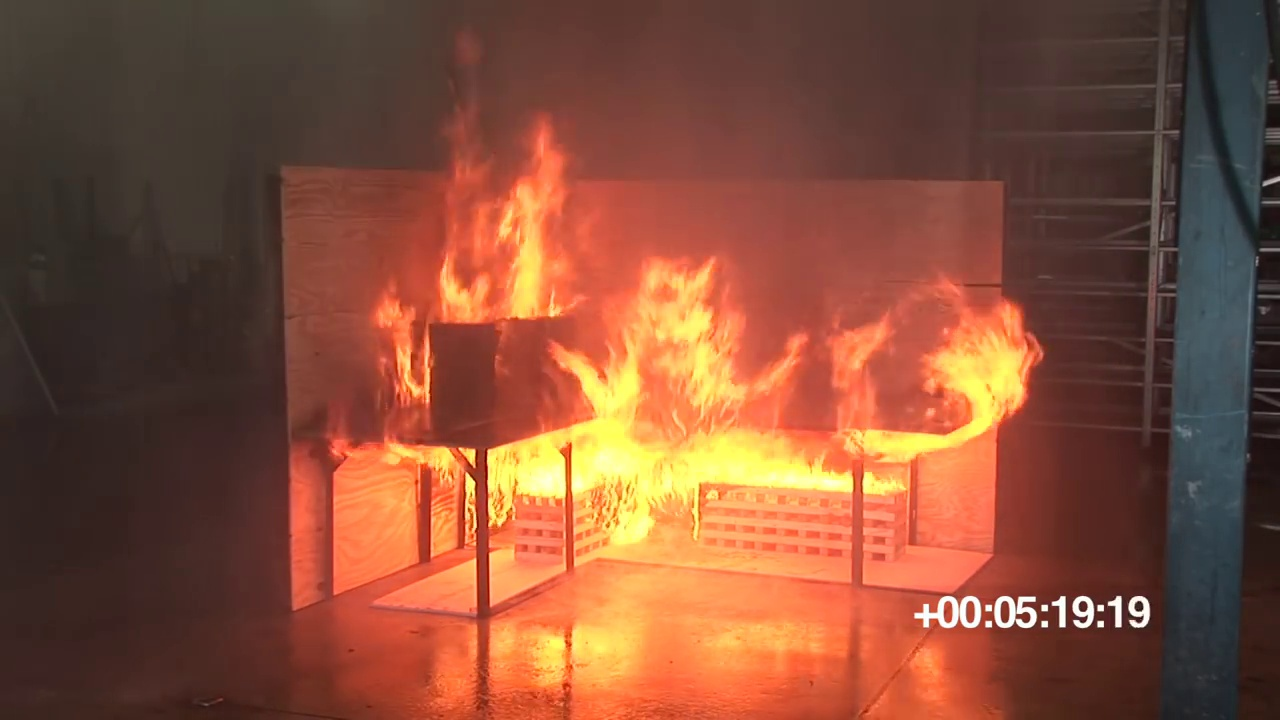fire: (574, 259, 746, 436), (446, 125, 562, 321), (458, 449, 889, 497), (919, 308, 1039, 431), (832, 307, 897, 433), (379, 291, 415, 400)
